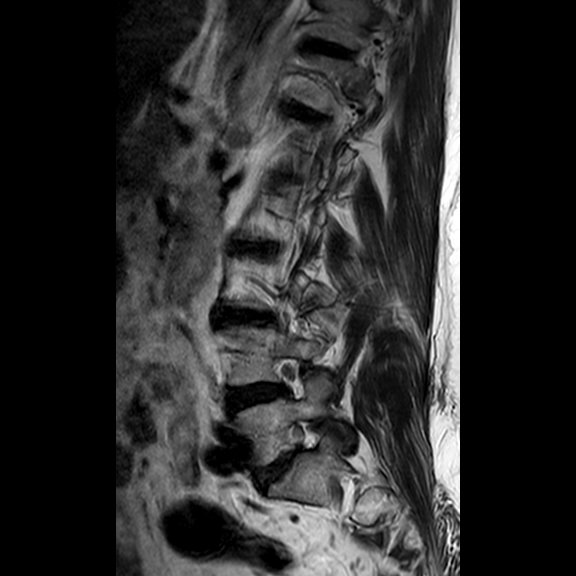LFS0: (265, 342, 320, 407)
LFS1: (280, 405, 335, 464)
